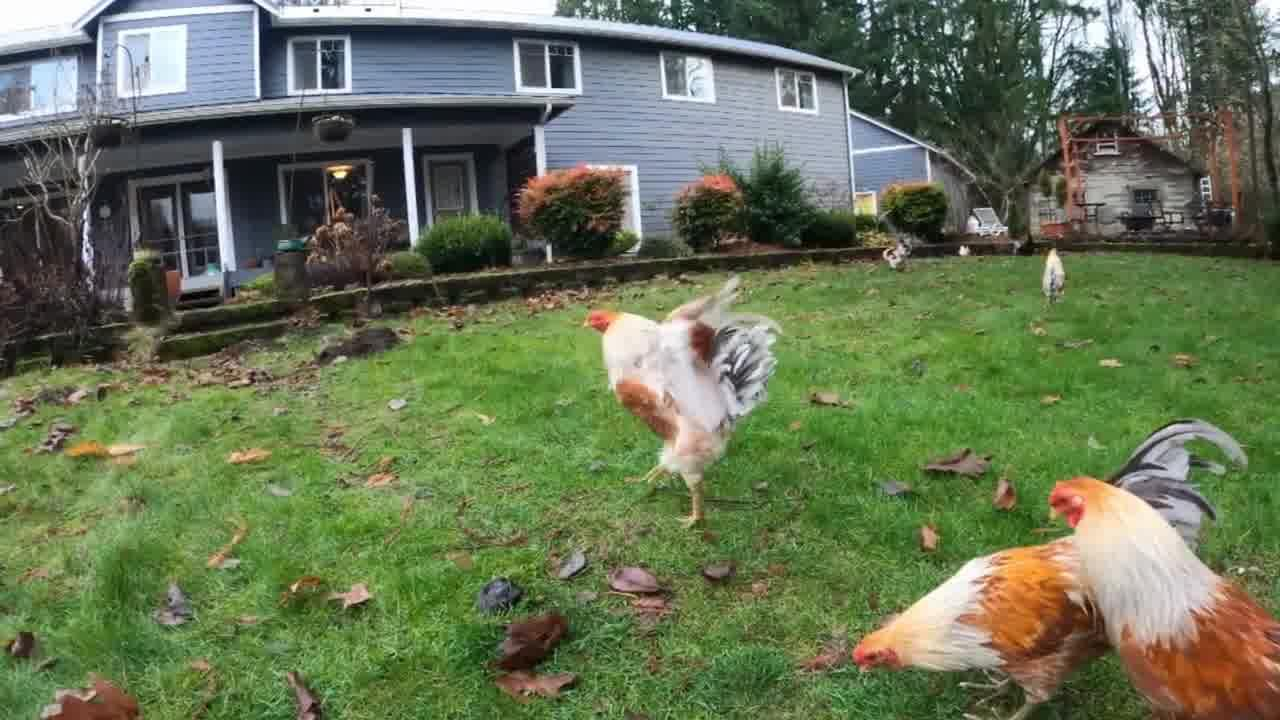Normal: (842, 418, 1258, 720), (1034, 460, 1280, 720), (574, 272, 802, 548)
